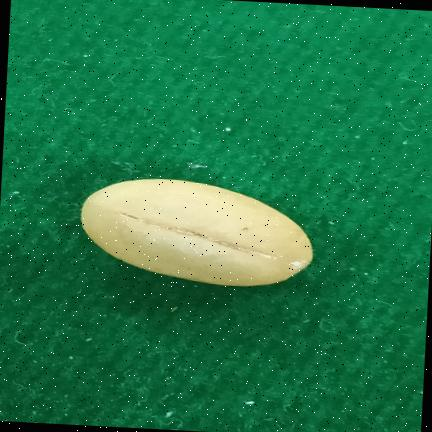parchment: (81, 179, 312, 286)
